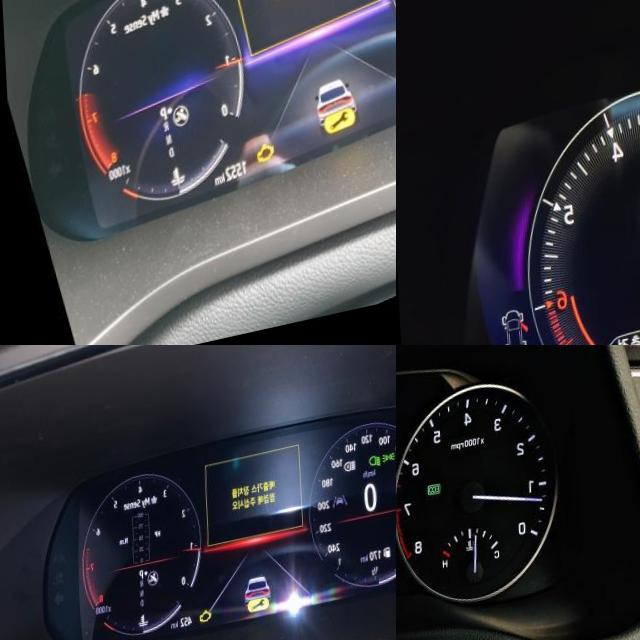Low beam: (367, 472, 379, 488)
SideLamp: (380, 470, 393, 483)
